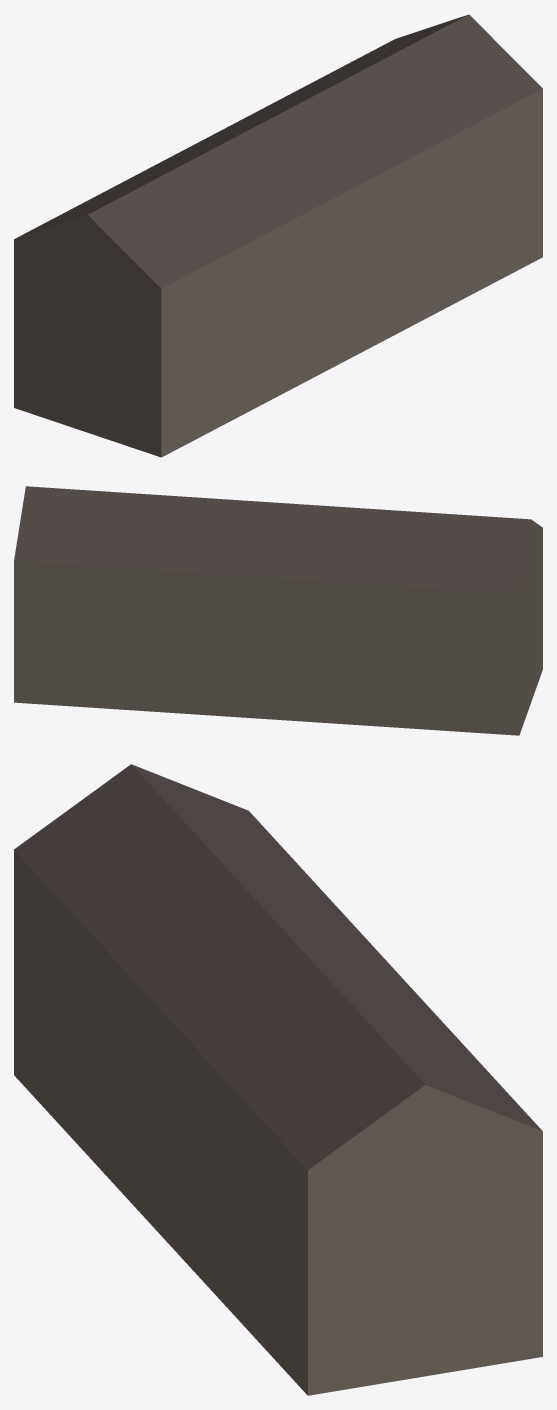
3 renders of one model, top to bottom at view 1: azimuth 30°, elevation 25°; view 2: azimuth 150°, elevation 25°; view 3: azimuth 270°, elevation 25°, orthographic. The views are drawn at different scales.
Parts seen in each view (by area): view 1: HP-w369317487; view 2: HP-w369317487; view 3: HP-w369317487.
Boxes of the visible parts, box(x1,y1,x2,y2) form: HP-w369317487: box(14, 14, 542, 457); HP-w369317487: box(14, 486, 542, 735); HP-w369317487: box(14, 764, 542, 1395).
Size of the model in its own units: 30.79 by 11.64 by 19.14.
